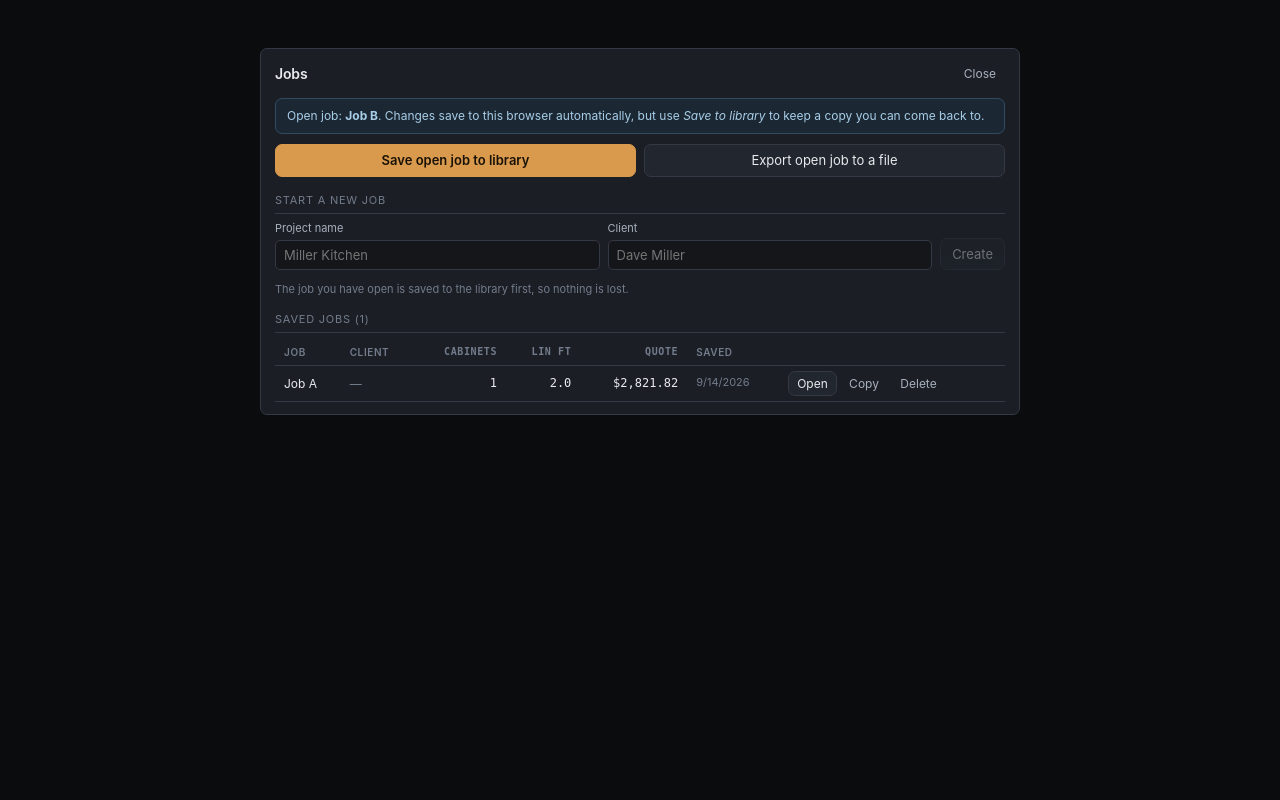
Scenario: JobsPanel › opens a saved job in place of the one on screen
The image size is (1280, 800).
Click the button "Open": click(812, 383) [788,371,837,396]
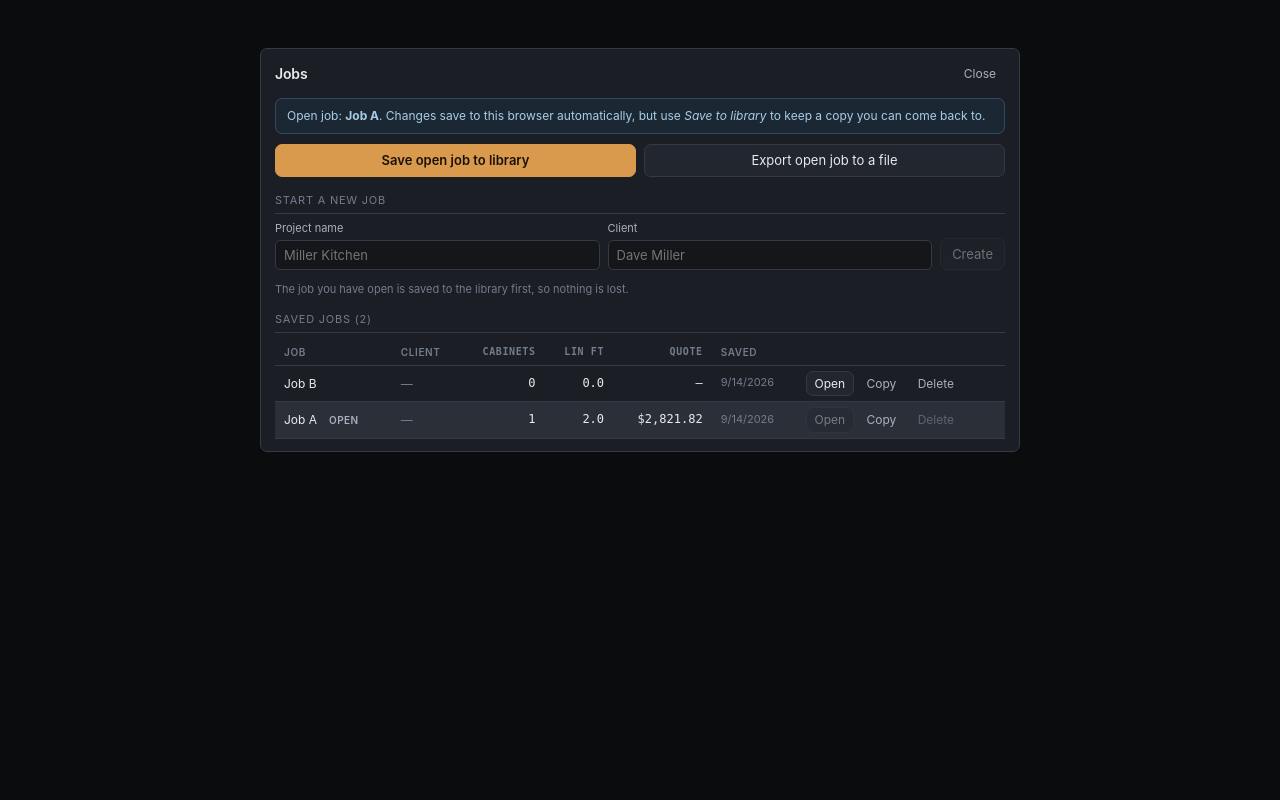
Expected: the text "Job A" is shown, [345,108,379,123]
